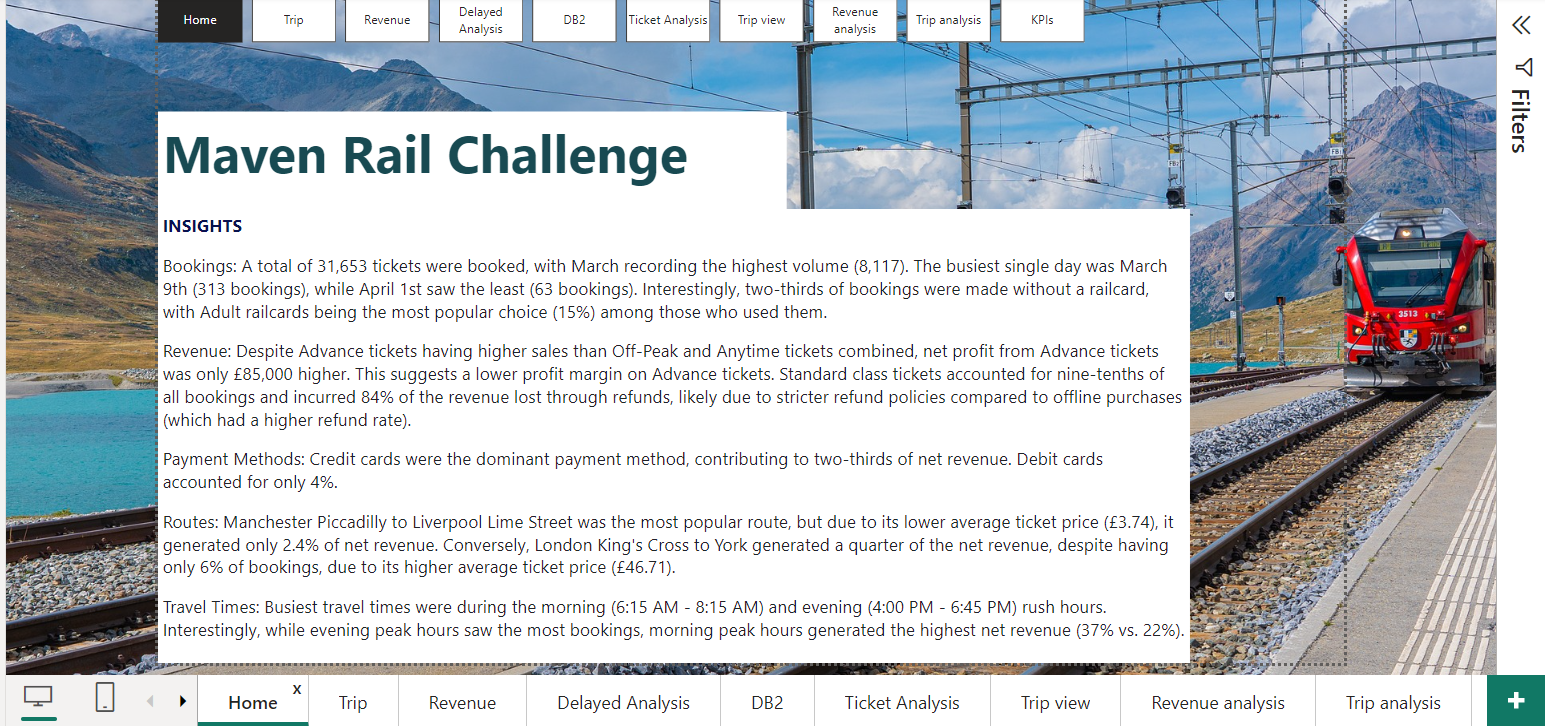

This screenshot's page, from the dashboard's own definition file:
{"tool":"powerbi","page":{"name":"Home","canvas":[1280,720],"ordinal":0},"visuals":[{"type":"textbox","box":[0,124.7,678.5,105.2],"z":0},{"type":"textbox","box":[0,229.9,1114,490.6],"z":1},{"type":"pageNavigator","box":[0,0,1000,50],"z":2}]}

Visuals, with their boxes on the page's 1280x720 design canvas (x1, y1, x2, y2). These are canvas units, not pixel positions in the 1545x726 screenshot, which may show the page scaled, cropped or inside an application window:
textbox: BBox(0, 125, 678, 230)
textbox: BBox(0, 230, 1114, 720)
pageNavigator: BBox(0, 0, 1000, 50)
